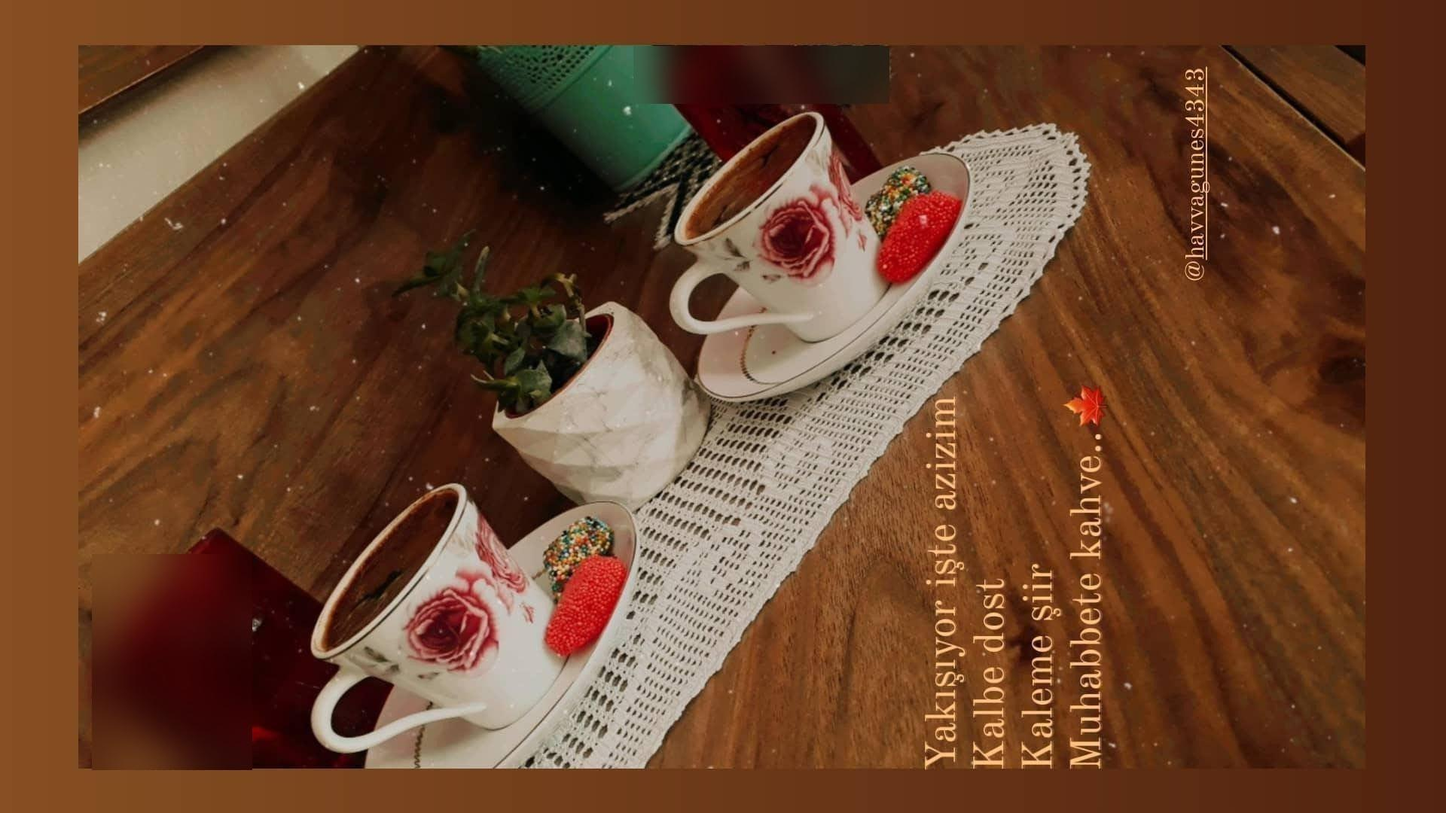cup-handle: (305, 485, 560, 742), (667, 110, 886, 347)
